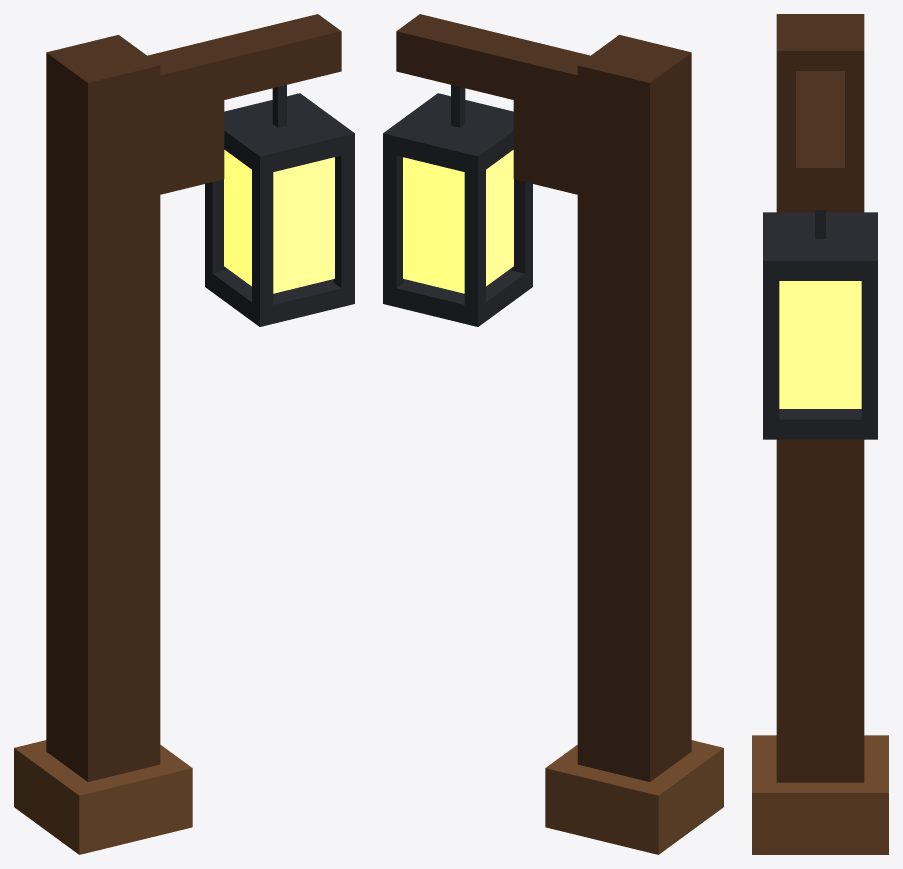
Rendered from dba-dock-lantern.glb.
The picture shows the model from 3 angles, left to right: view 1: azimuth 30°, elevation 25°; view 2: azimuth 150°, elevation 25°; view 3: azimuth 270°, elevation 25°; orthographic projection. The views are drawn at different scales.
Parts seen in each view (by area): view 1: box-prop; view 2: box-prop; view 3: box-prop.
Boxes of the visible parts, x1,y1,x2,y2 form: box-prop: [14, 14, 354, 854]; box-prop: [383, 14, 723, 854]; box-prop: [752, 14, 888, 854].
Bounding box in the file's own units: 1.25 × 3.2 × 0.5.
